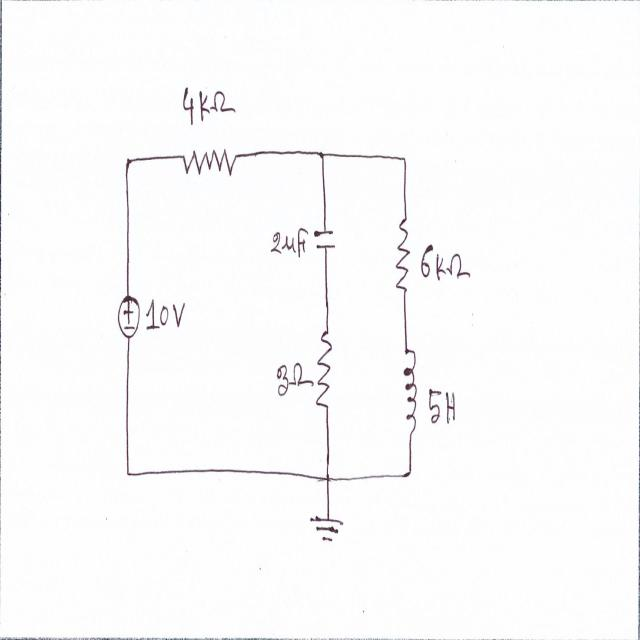capacitor: (312, 224, 338, 255)
ground: (306, 508, 349, 545)
inductor: (399, 343, 419, 437)
resistor: (180, 146, 240, 182), (314, 326, 336, 413), (395, 213, 412, 297)
voltage_source: (115, 294, 145, 344)
